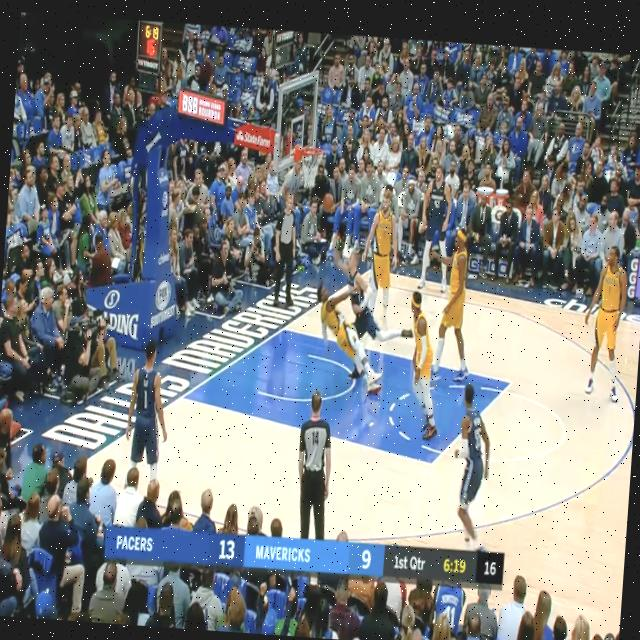foul: (294, 246, 407, 404)
no foul: (391, 214, 474, 452)
